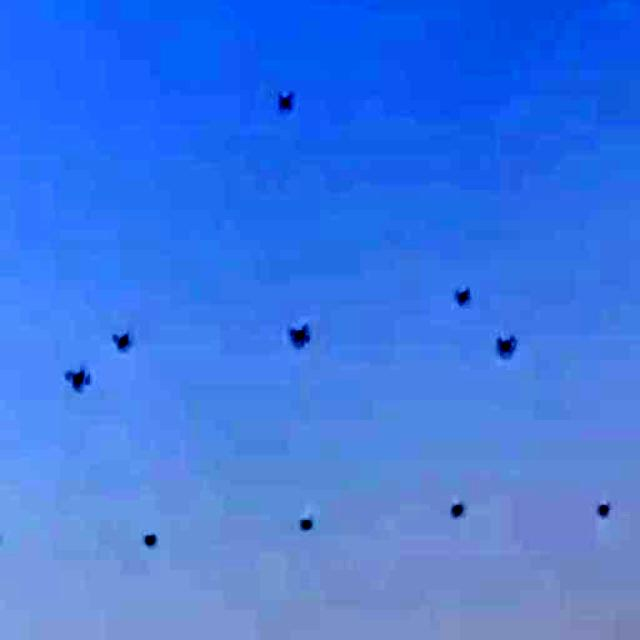bird: (111, 294, 150, 382), (270, 66, 302, 151), (130, 510, 171, 569), (61, 356, 96, 419), (452, 270, 482, 329), (292, 306, 319, 365), (290, 505, 325, 550), (490, 330, 524, 374), (444, 480, 469, 516)
